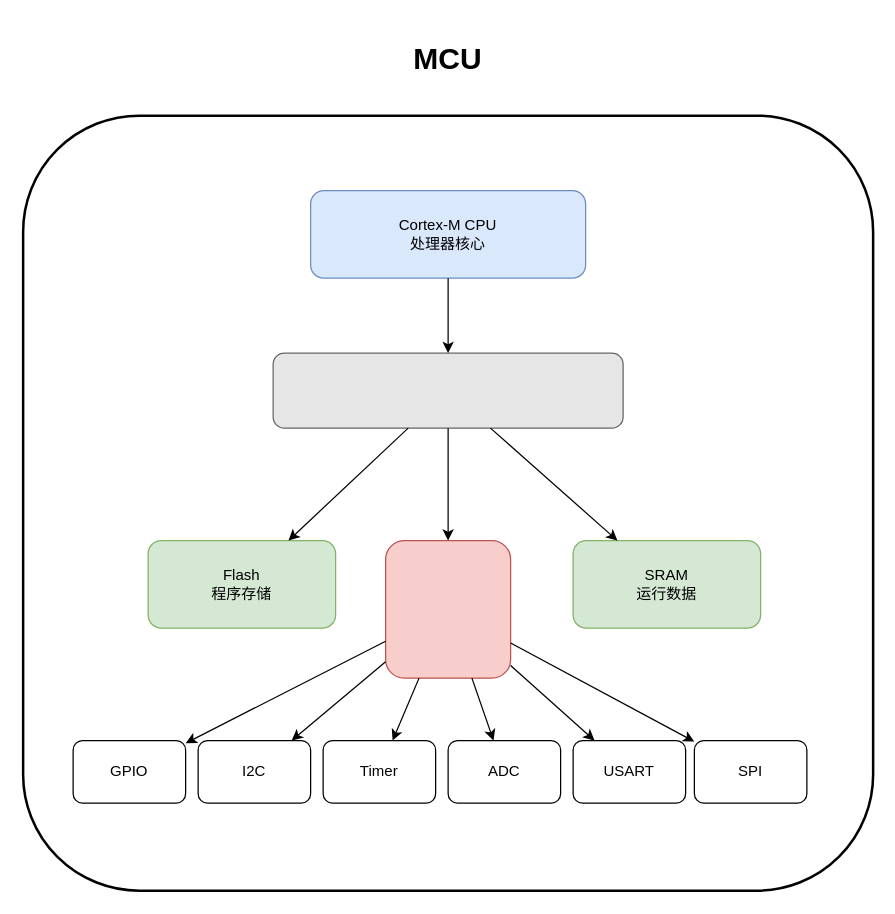
Some shapes in this 895 by 914 pixel diagram are drawn without their labels. The shapes that lost their labels are listed below. From the top down, each one's centre as x and y in pixels, then its label:
At (x=447, y=390): "System Bus 总线系统".
At (x=447, y=608): "Peripherals 外设".
